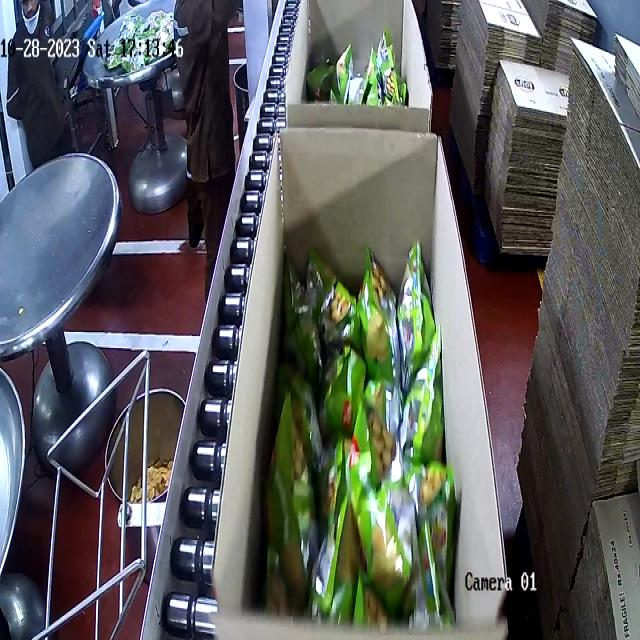YOGURT_HERB: (263, 238, 458, 630)
